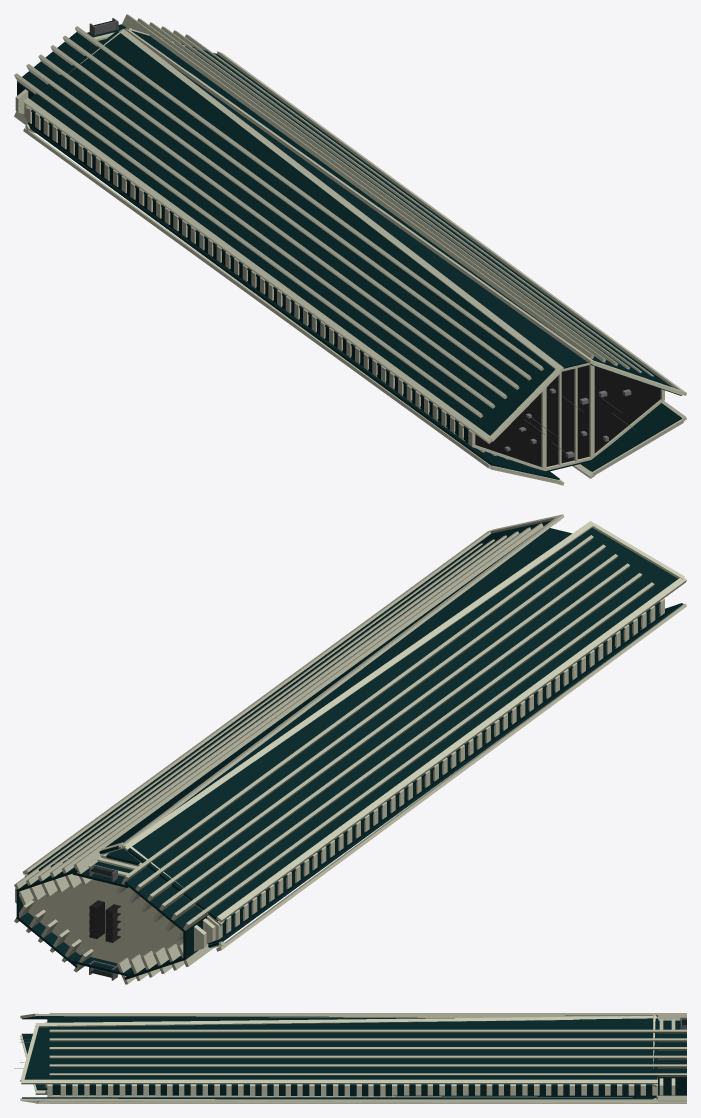
3 views of the same model, one above another, from view 1: azimuth 30°, elevation 25°; view 2: azimuth 150°, elevation 25°; view 3: azimuth 270°, elevation 25° (orthographic). The views are drawn at different scales.
Visible parts, largest first — view 1: WS_Glass02, WS_V02, WS_H02, WS_roof02; view 2: WS_Glass02, WS_V02, WS_H02; view 3: WS_Glass02, WS_V02, WS_H02.
Boxes of the visible parts, x1,y1,x2,y2 form: WS_Glass02: [17, 24, 681, 479]; WS_V02: [14, 14, 653, 459]; WS_H02: [15, 28, 686, 485]; WS_roof02: [475, 365, 660, 466]; WS_Glass02: [16, 520, 682, 979]; WS_V02: [14, 523, 654, 984]; WS_H02: [15, 514, 686, 963]; WS_Glass02: [22, 1015, 686, 1101]; WS_V02: [49, 1013, 686, 1103]; WS_H02: [20, 1013, 675, 1103].
Bounding box in the file's own units: 70.79 × 43.16 × 303.
